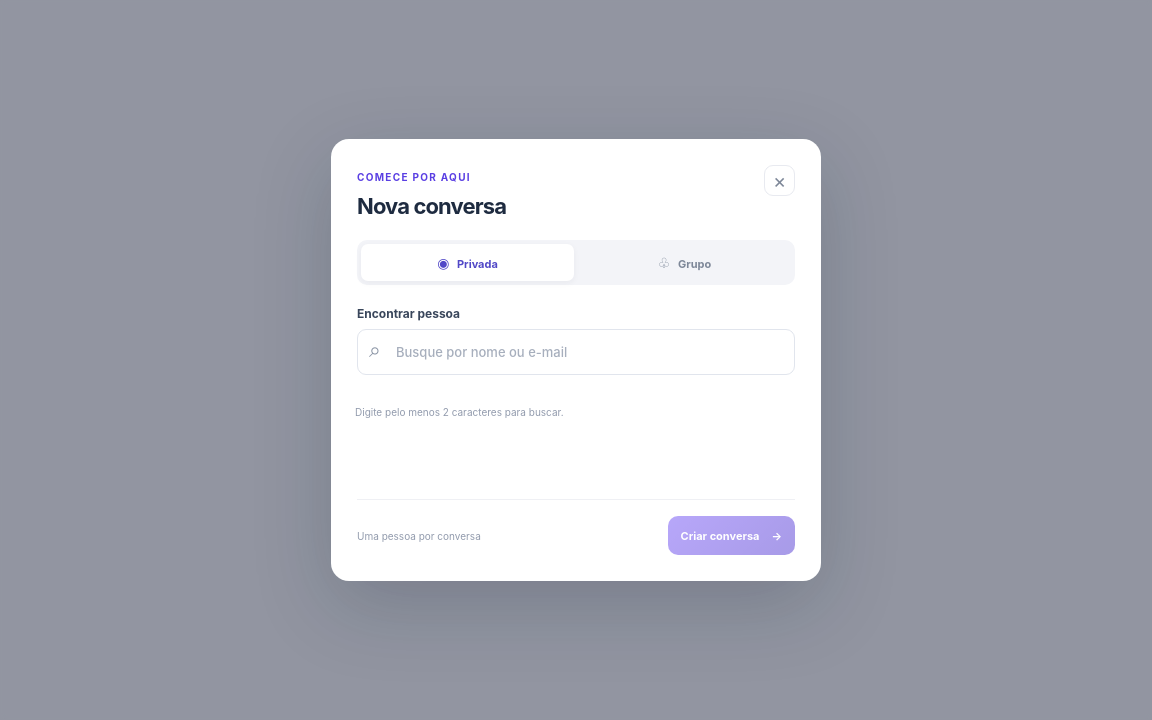
Test: NewConversationDialog › cria um grupo com os participantes escolhidos
Later steps or results of the test are not shown.
Click the button "♧ Grupo" at (684, 262), box [578,244,791,281]
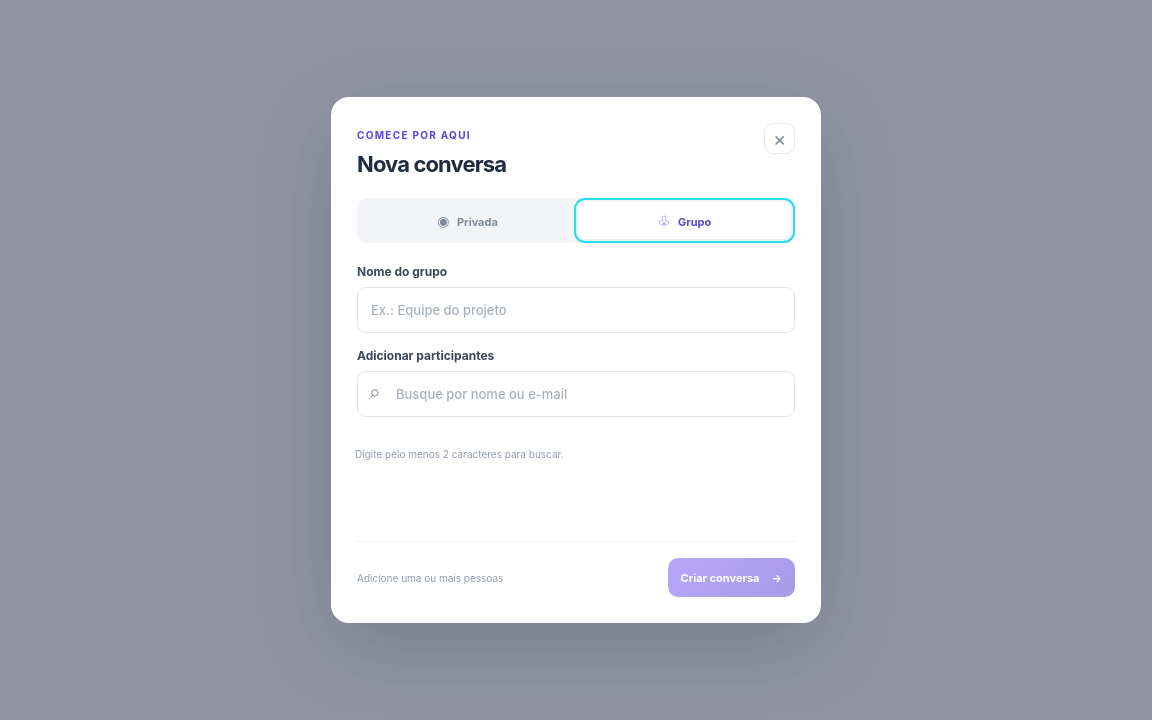
Type "Equipe do projeto" into the field labelled "Nome do grupo" at (576, 310), box [357,287,795,333]
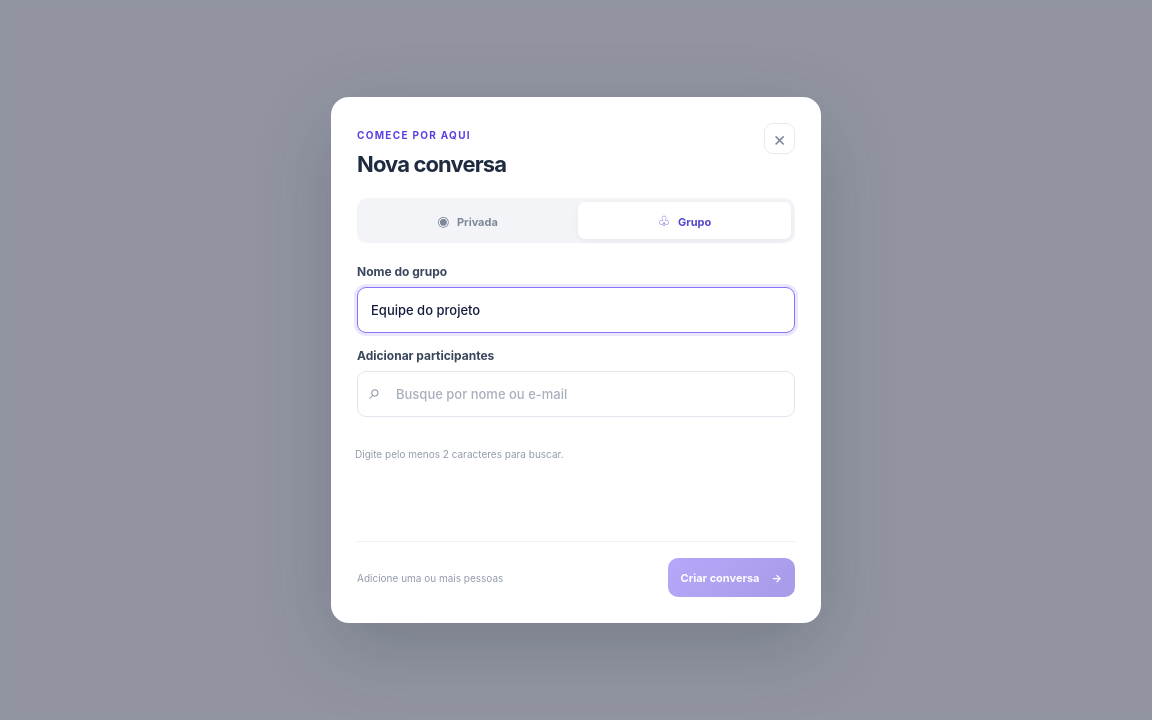
Type "ana" into the field labelled "Adicionar participantes" at (576, 394), box [357,371,795,417]
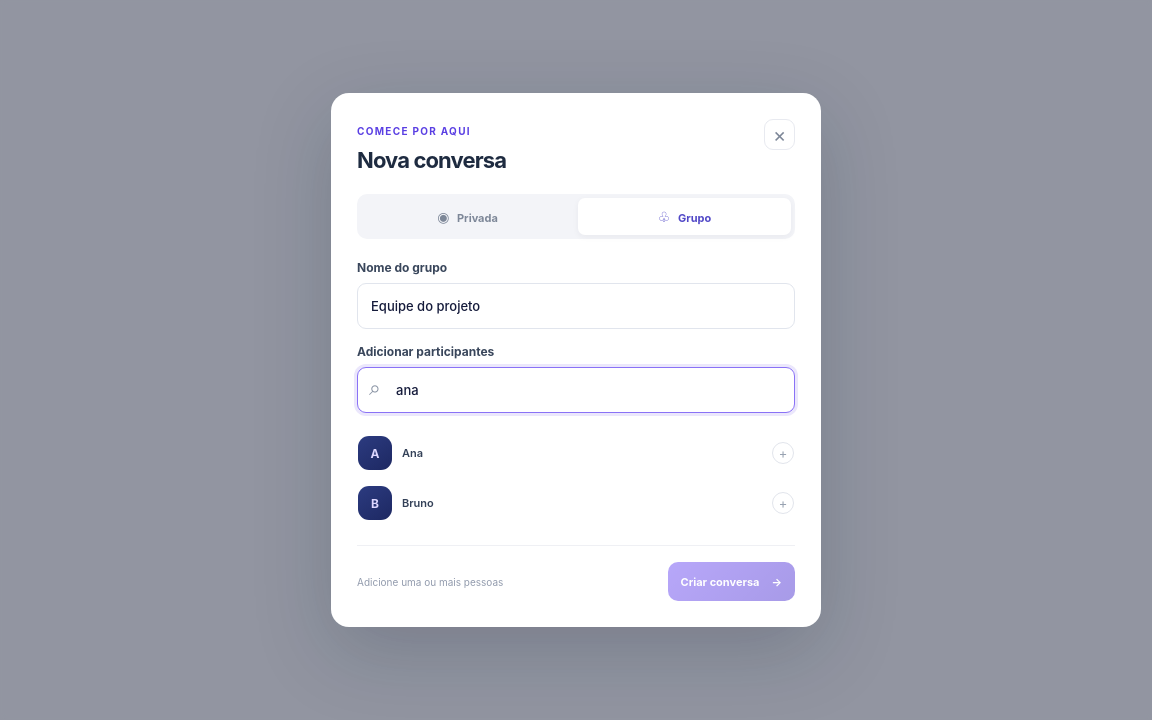
Expected: the button "A Ana +" is shown, [350,428,802,478]
